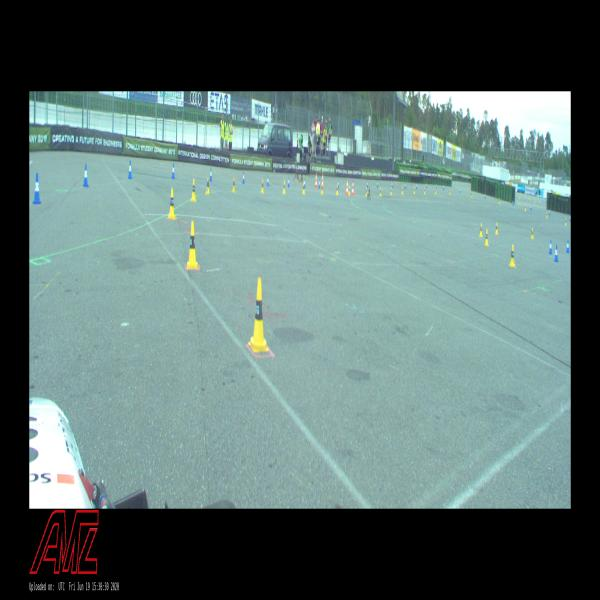blue_cone: (33, 173, 41, 204), (83, 164, 89, 186), (128, 160, 132, 178), (554, 245, 558, 262), (172, 163, 175, 178), (549, 240, 552, 254), (566, 240, 569, 252), (242, 172, 245, 183), (210, 168, 212, 180), (267, 175, 269, 186), (304, 178, 306, 188), (318, 179, 320, 188), (288, 178, 290, 186), (512, 200, 514, 206), (425, 182, 427, 188), (484, 193, 486, 198), (338, 180, 339, 188), (367, 180, 368, 188), (353, 180, 354, 188), (530, 205, 532, 209), (404, 184, 406, 188), (377, 181, 378, 187), (443, 184, 444, 189), (460, 188, 461, 193), (549, 210, 550, 214), (416, 184, 417, 188), (392, 181, 392, 188), (436, 184, 436, 188)
large_orange_cone: (346, 179, 349, 195), (315, 173, 317, 188), (322, 173, 324, 188), (352, 181, 354, 195)
yellow_cone: (248, 278, 269, 352), (186, 221, 198, 269), (169, 188, 175, 218), (191, 179, 196, 201), (510, 245, 515, 266), (206, 177, 210, 194), (232, 176, 236, 192), (484, 229, 488, 245), (479, 223, 483, 237), (261, 179, 264, 193), (495, 223, 498, 234), (283, 181, 285, 194), (303, 182, 305, 194), (321, 183, 323, 194), (531, 228, 533, 238), (336, 186, 338, 194), (390, 188, 392, 195), (349, 186, 350, 195), (402, 186, 403, 194), (546, 211, 547, 218), (380, 188, 381, 195), (366, 188, 367, 195), (525, 204, 526, 210), (424, 188, 425, 194), (414, 187, 415, 193), (449, 189, 450, 194), (499, 199, 500, 204), (435, 189, 436, 194), (471, 193, 472, 198), (519, 195, 520, 199), (525, 194, 526, 198), (534, 199, 535, 203), (566, 218, 566, 225), (540, 199, 540, 202)
